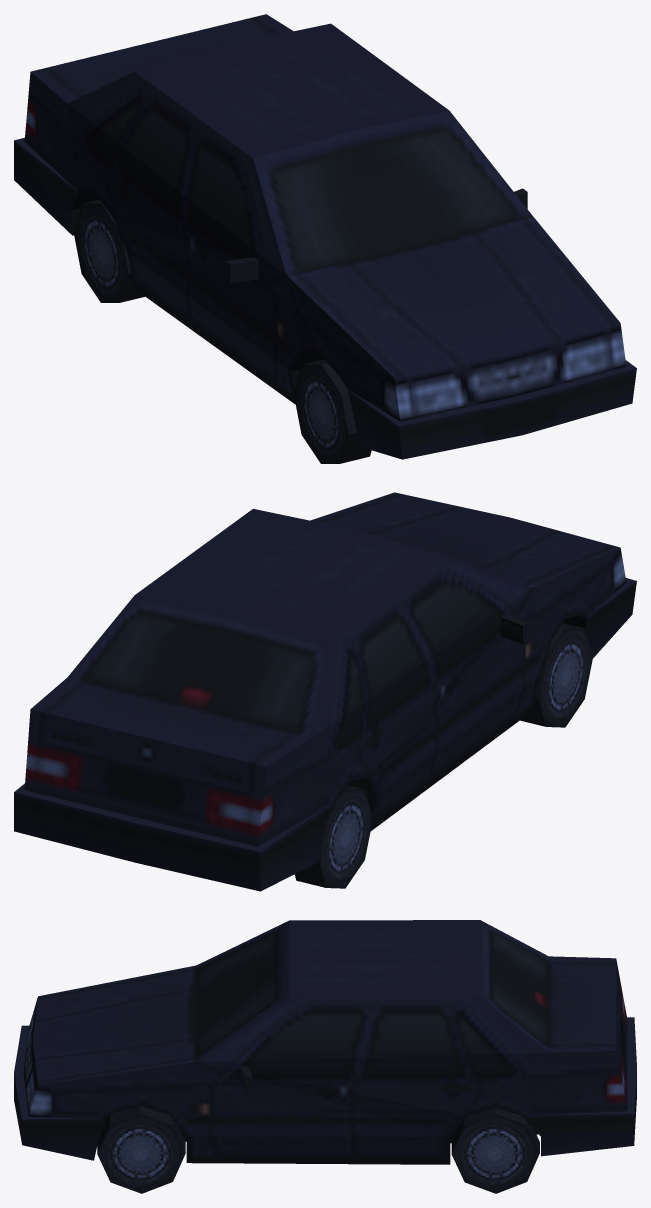
The picture shows the model from 3 angles, top to bottom: view 1: azimuth 30°, elevation 25°; view 2: azimuth 150°, elevation 25°; view 3: azimuth 270°, elevation 25°; orthographic projection. The views are drawn at different scales.
Parts seen in each view (by area): view 1: car2; view 2: car2; view 3: car2.
Part boxes in pixels (x1,y1,x2,y2): car2: [14, 14, 636, 463]; car2: [14, 492, 636, 891]; car2: [14, 920, 636, 1193].
Size of the model in its own units: 2.9 by 2.2 by 6.53.
Materials: 1 (1 with a texture image).
